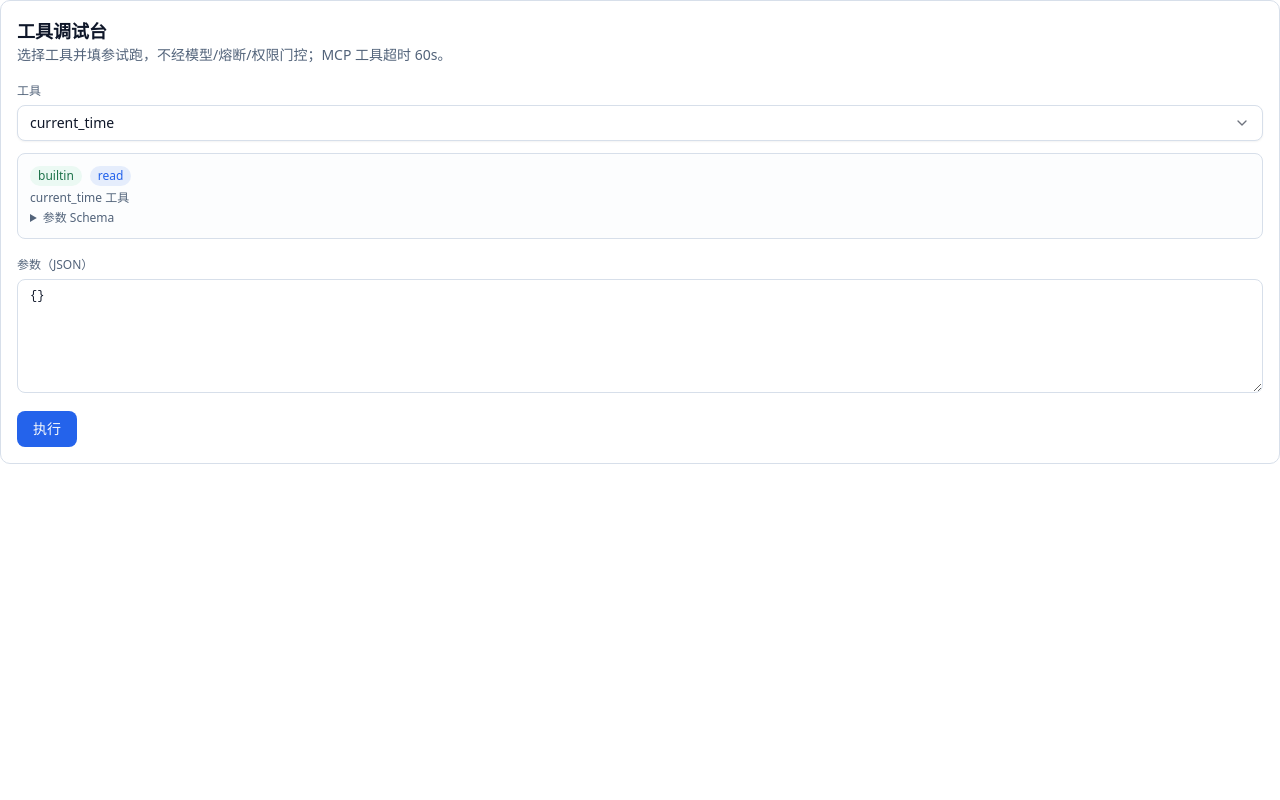
Test: 工具调试台面板（v0.6 M4） › 参数不是合法 JSON 时 toast 报错且不发起执行
Check: the dropdown with test id "tool-debug-select" reads "current_time", box x1=17 y1=105 x2=1263 y2=141
Replace the text in the text box with test id "tool-debug-args" with "not json": (640, 336) x1=17 y1=279 x2=1263 y2=393
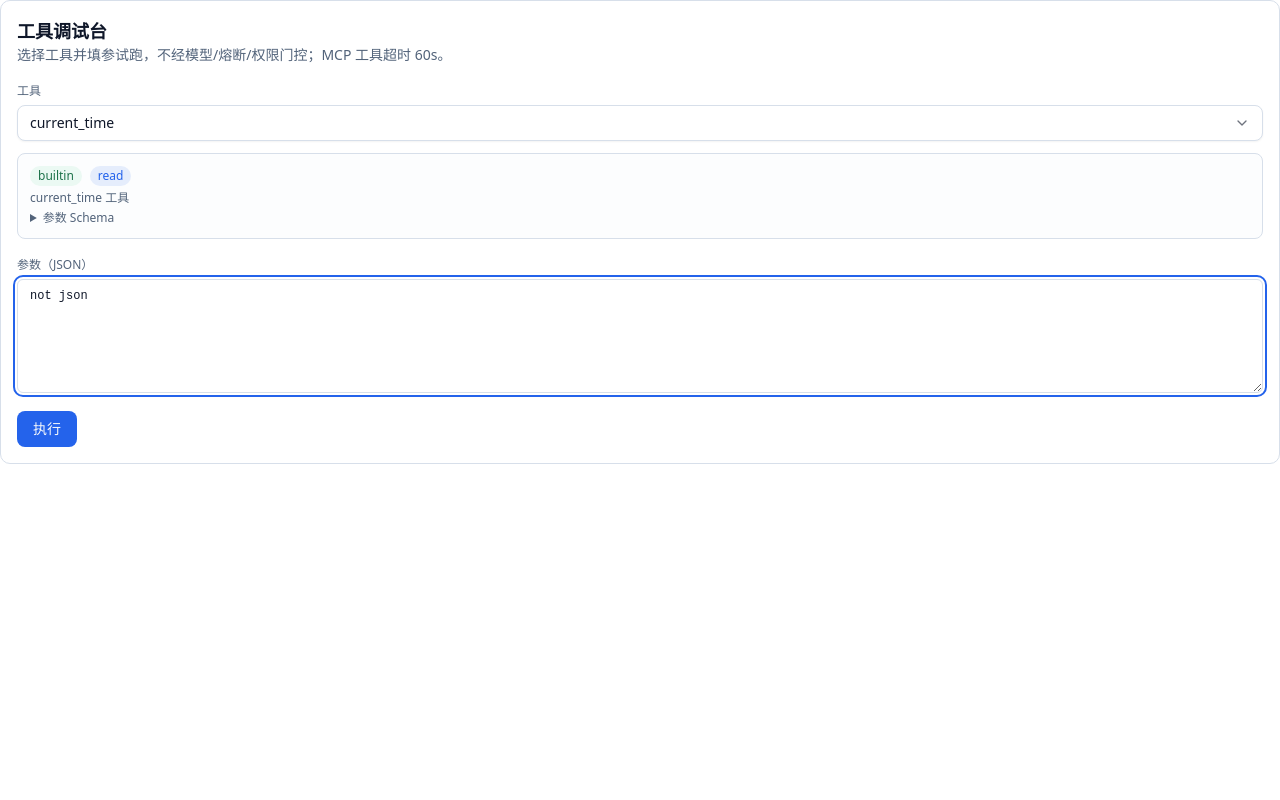
Click the button with test id "tool-debug-execute": click(47, 429) x1=17 y1=411 x2=77 y2=447
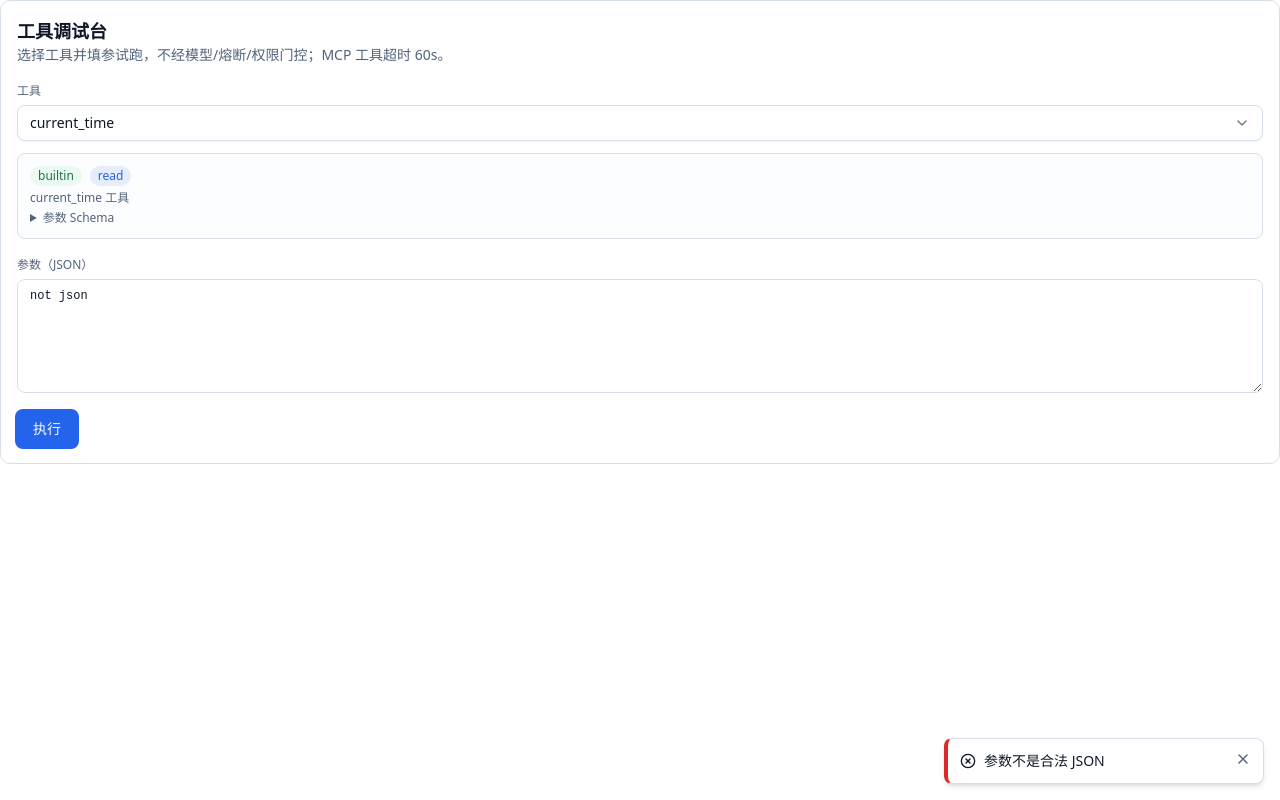
Check: the text "参数不是合法 JSON" is shown, box x1=984 y1=751 x2=1105 y2=770
